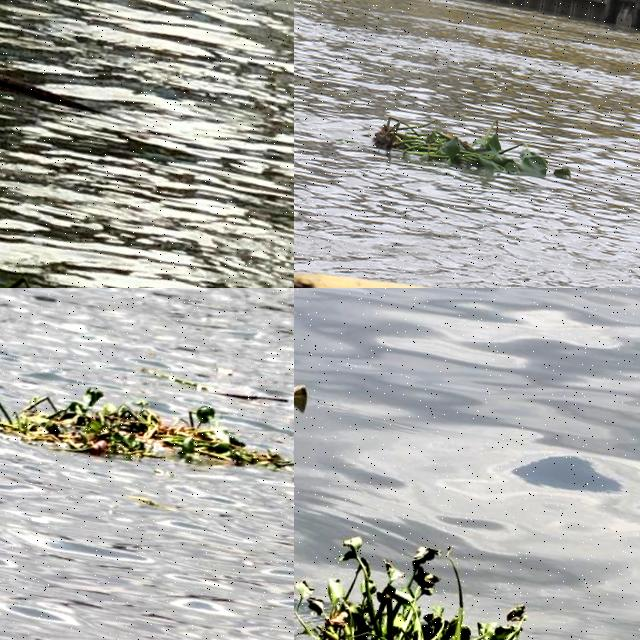water-hyacinth: (1, 356, 295, 492), (295, 528, 530, 640), (373, 94, 576, 179)
